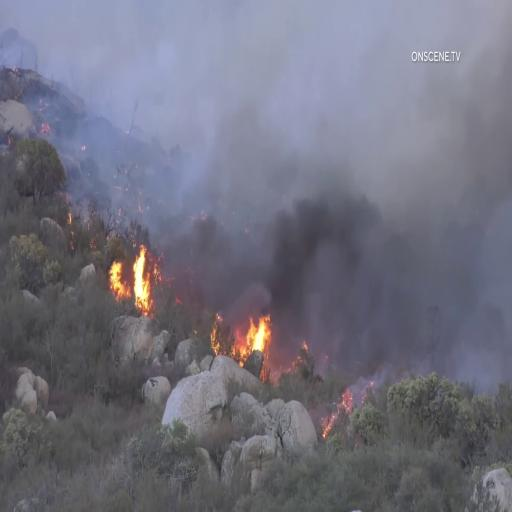fire: (224, 310, 285, 387), (112, 231, 165, 317)
smoke: (268, 88, 506, 288)
